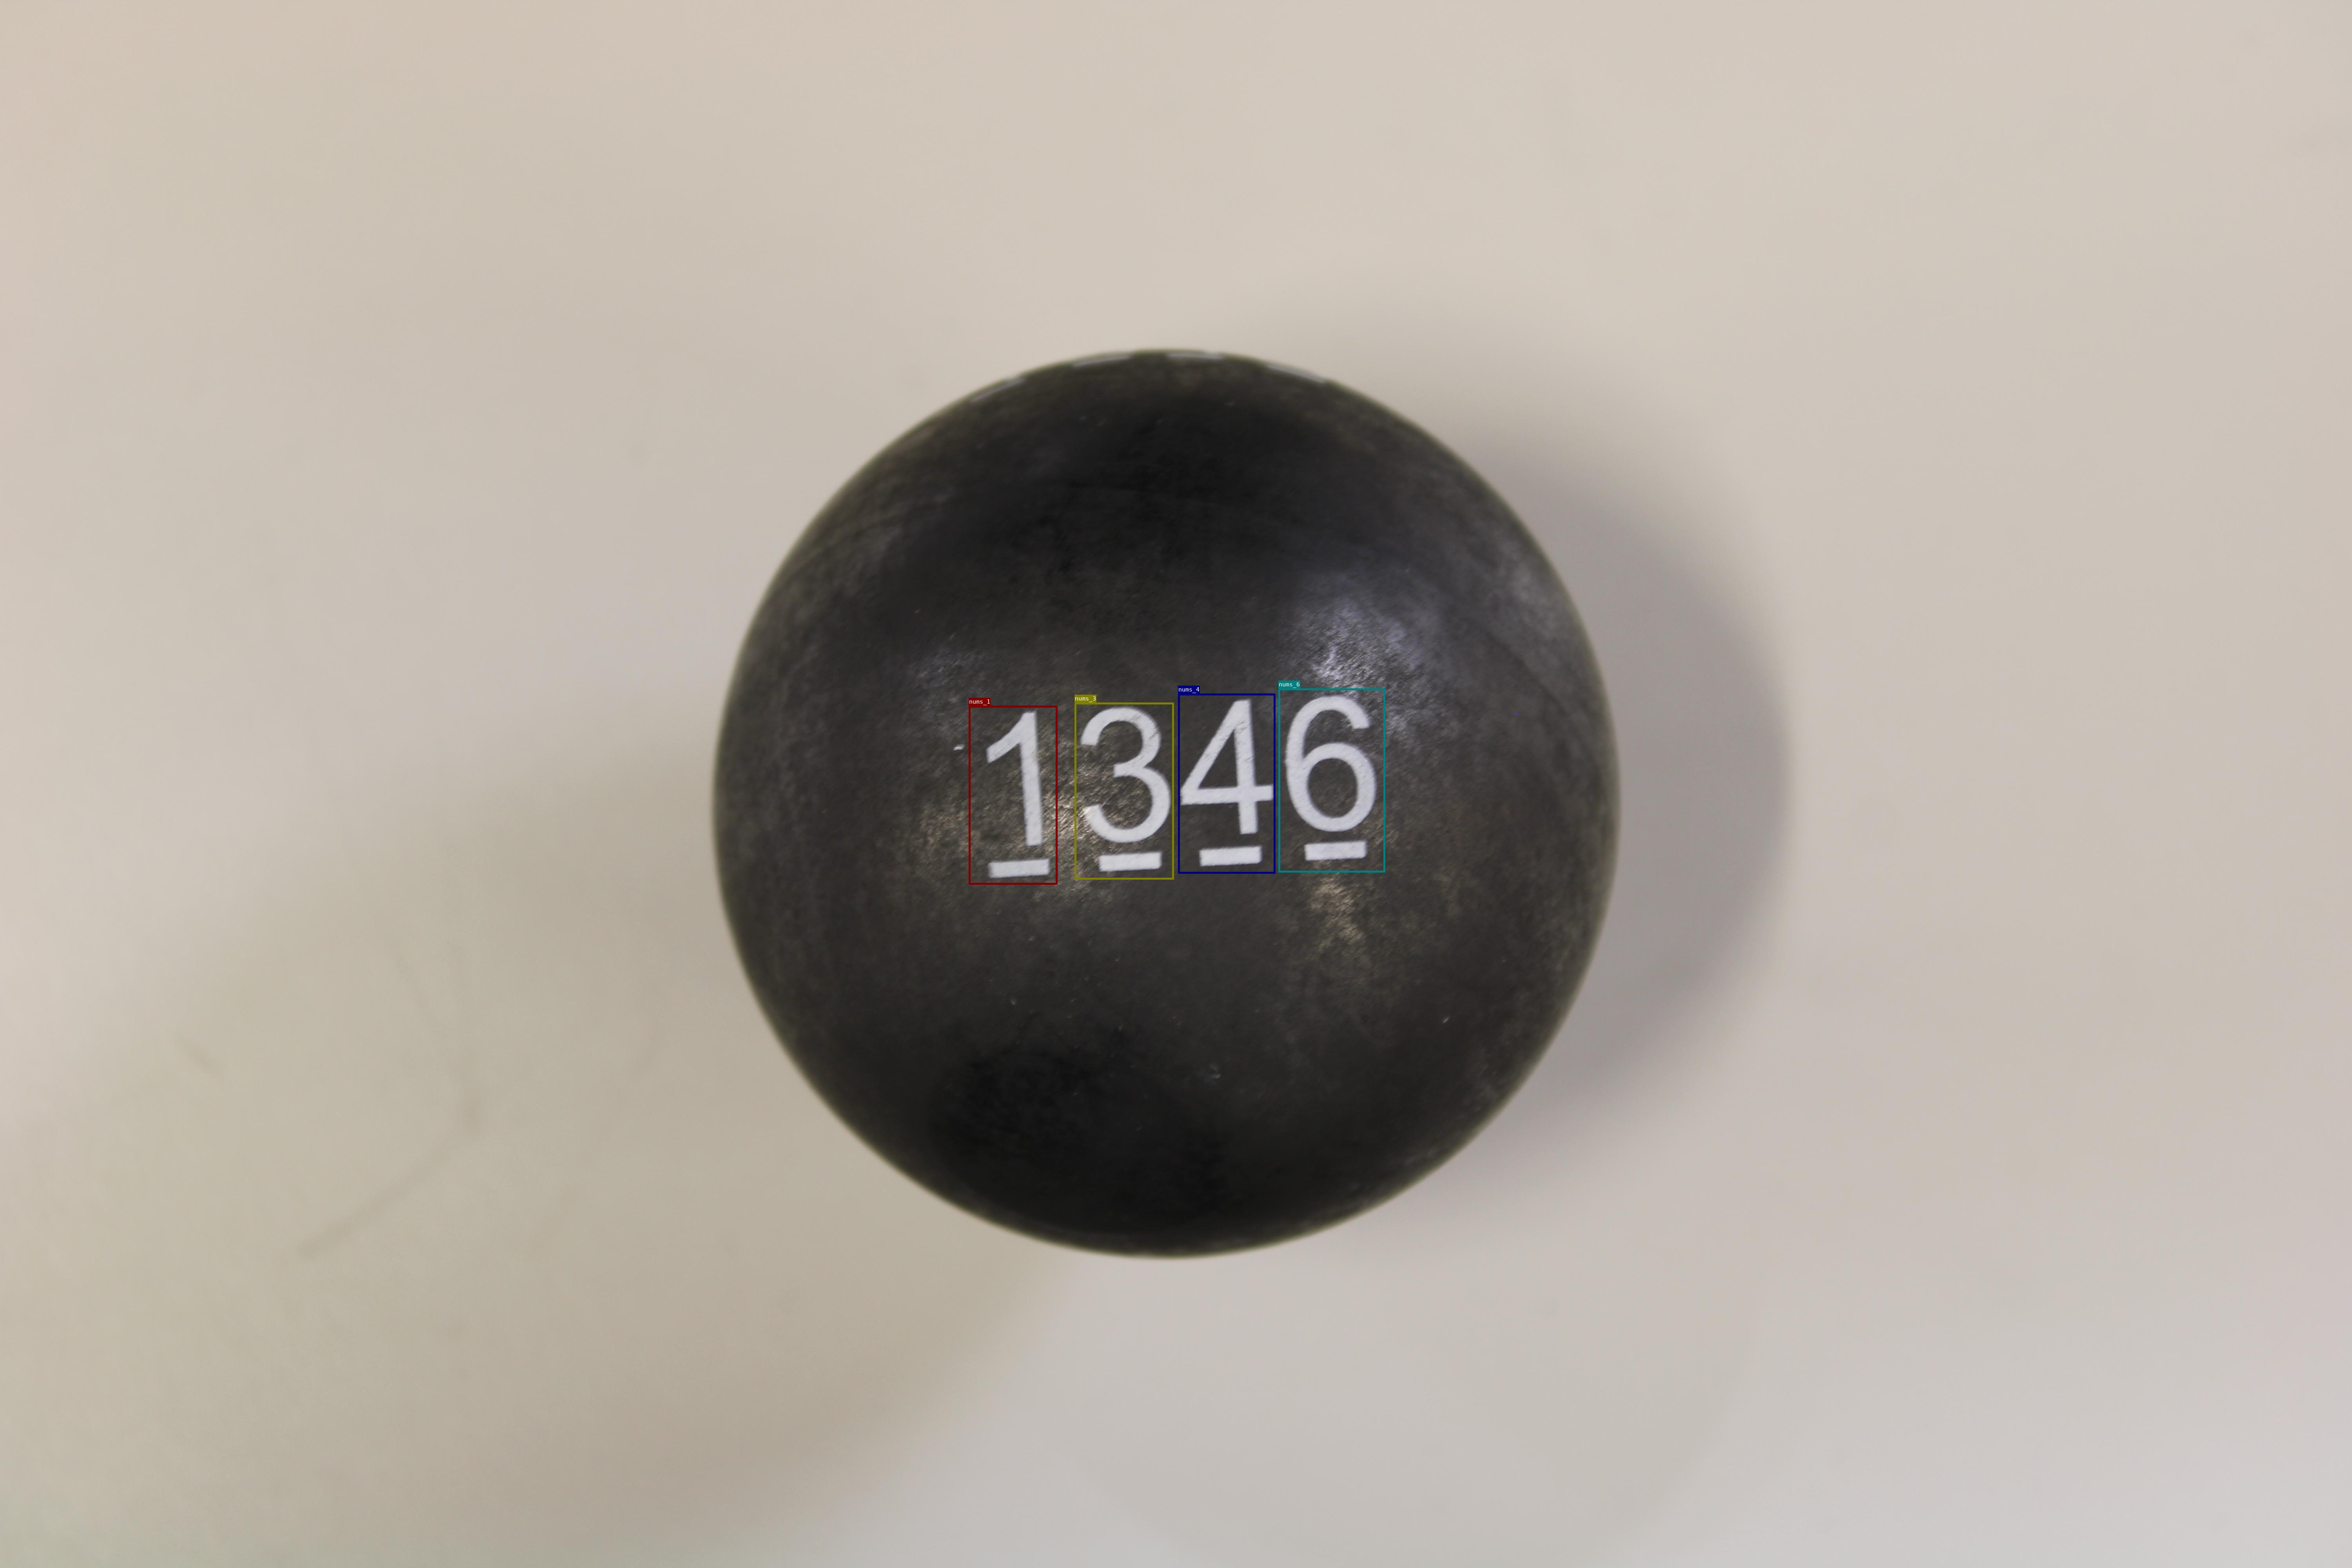nums_1: (970, 705, 1057, 884)
nums_3: (1074, 702, 1174, 878)
nums_4: (1178, 693, 1276, 873)
nums_6: (1277, 688, 1384, 872)
